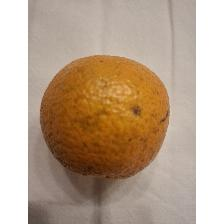Mandarine: (39, 52, 173, 182)
